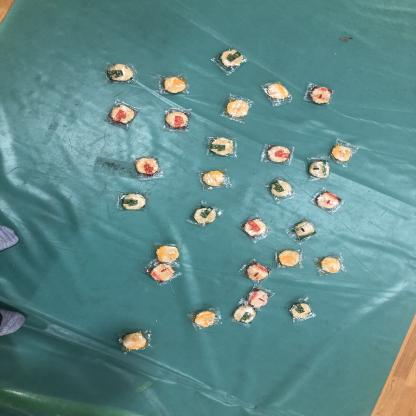green_setoshio: (186, 201, 228, 228), (213, 44, 247, 74), (103, 60, 137, 86), (205, 136, 242, 158), (304, 158, 335, 183), (264, 178, 299, 200), (118, 192, 152, 213), (288, 297, 314, 324), (290, 220, 321, 242), (227, 304, 258, 326)
red_setoshio: (102, 100, 142, 129), (309, 186, 346, 214), (129, 152, 165, 180), (239, 214, 275, 242), (300, 82, 336, 108), (158, 106, 193, 132), (260, 142, 296, 166), (238, 258, 272, 281), (244, 286, 275, 310), (148, 264, 179, 285)
yellow_setoshio: (114, 324, 152, 356), (187, 306, 224, 332), (260, 80, 296, 106), (220, 93, 254, 120), (314, 252, 349, 278), (327, 139, 360, 166), (159, 73, 193, 96), (198, 167, 230, 191), (272, 248, 308, 269), (152, 244, 186, 263)
